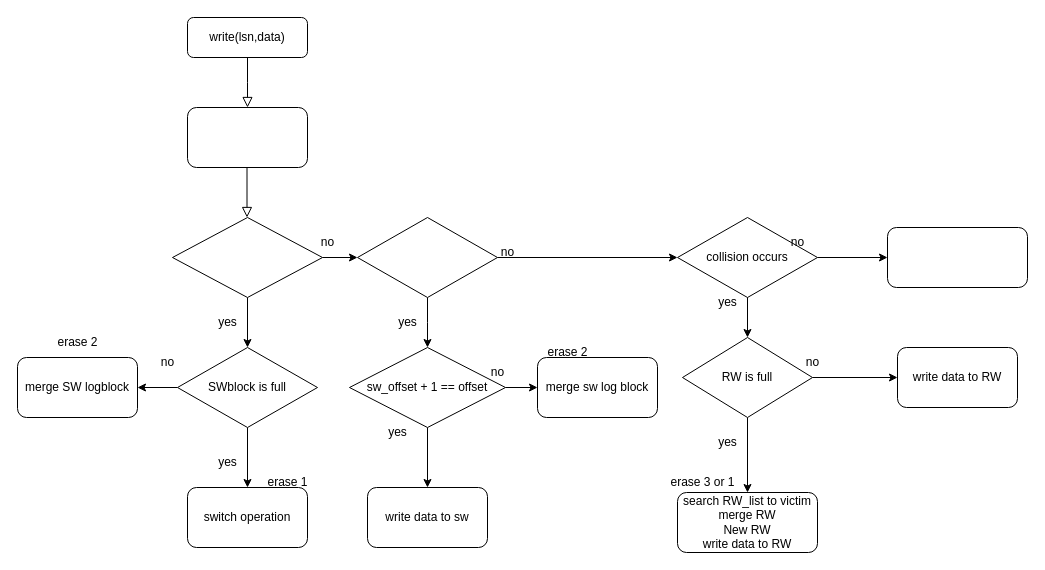
The diagram is 1045 pixels wide and 570 high, and some of its shapes have lost their labels. The shapes that lost their labels are listed below. From the top down, each one's centre as x and y in pixels, then its label:
(247,137): lbn = lsn / n offset = lsn % n pbn = getPBNfromBMT
(247,257): if(offset is zero)
(427,257): SW owner same lbn
(957,257): write data to Data block
